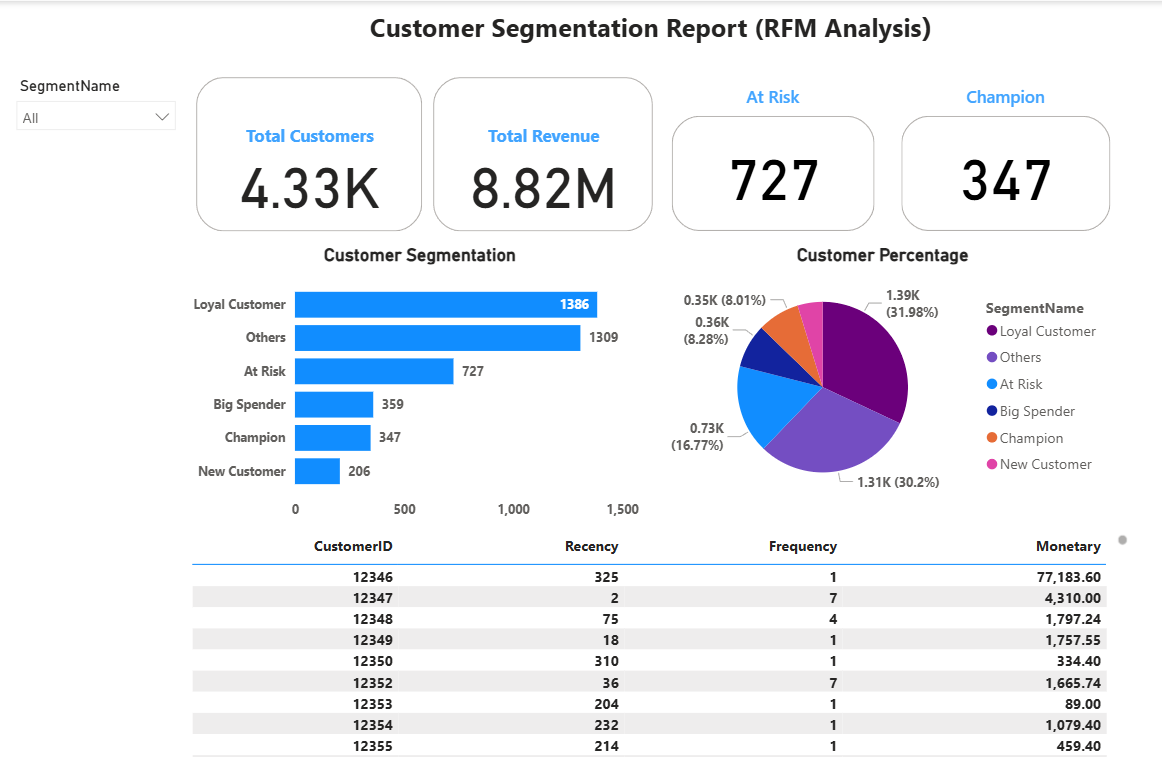

The dashboard page shown, as its layout file describes it:
{"tool":"powerbi","page":{"name":"Page 1","canvas":[1280,720],"ordinal":0},"visuals":[{"type":"clusteredBarChart","title":"Customer Segmentation","fields":{"Category":["RFM_Segments.SegmentName"],"Y":["CountNonNull(RFM_Segments.CustomerID)"]},"box":[210.2,230.1,443.1,269.8],"z":0},{"type":"pieChart","title":"Customer Percentage","fields":{"Category":["RFM_Segments.SegmentName"],"Y":["CountNonNull(RFM_Segments.CustomerID)"]},"box":[653.3,230.1,433.1,251.4],"z":1000},{"type":"tableEx","fields":{"Values":["RFM_base.CustomerID","RFM_base.Recency","RFM_base.Frequency","RFM_base.Monetary"]},"box":[210.2,499.9,896.1,220.1],"z":2000},{"type":"cardVisual","fields":{"Data":["Count(RFM_Segments.CustomerID)"]},"box":[214.4,66.7,224.4,156.2],"z":3000},{"type":"cardVisual","fields":{"Rows":["RFM_Segments.SegmentName"],"Data":["CountNonNull(RFM_Segments.CustomerID)"]},"box":[862,66.7,248.5,156.2],"z":4000},{"type":"cardVisual","fields":{"Rows":["RFM_Segments.SegmentName"],"Data":["CountNonNull(RFM_Segments.CustomerID)"]},"box":[644.7,66.7,242.8,156.2],"z":5000},{"type":"cardVisual","fields":{"Data":["Sum(RFM_base.Monetary)"]},"box":[438.8,66.7,218.7,156.2],"z":6000},{"type":"slicer","fields":{"Values":["RFM_Segments.SegmentName"]},"box":[39.8,66.7,170.4,73.8],"z":7000},{"type":"textbox","box":[214.4,0,872,66.7],"z":7001}]}

Visuals, with their boxes on the page's 1280x720 design canvas (x1, y1, x2, y2). These are canvas units, not pixel positions in the 1162x760 screenshot, which may show the page scaled, cropped or inside an application window:
"Customer Segmentation" clusteredBarChart: 210/230/653/500
"Customer Percentage" pieChart: 653/230/1086/482
tableEx - RFM_base.CustomerID x RFM_base.Recency: 210/500/1106/720
cardVisual - Count(RFM_Segments.CustomerID): 214/67/439/223
cardVisual - RFM_Segments.SegmentName x CountNonNull(RFM_Segments.CustomerID): 862/67/1110/223
cardVisual - RFM_Segments.SegmentName x CountNonNull(RFM_Segments.CustomerID): 645/67/888/223
cardVisual - Sum(RFM_base.Monetary): 439/67/658/223
slicer - RFM_Segments.SegmentName: 40/67/210/140
textbox: 214/0/1086/67
